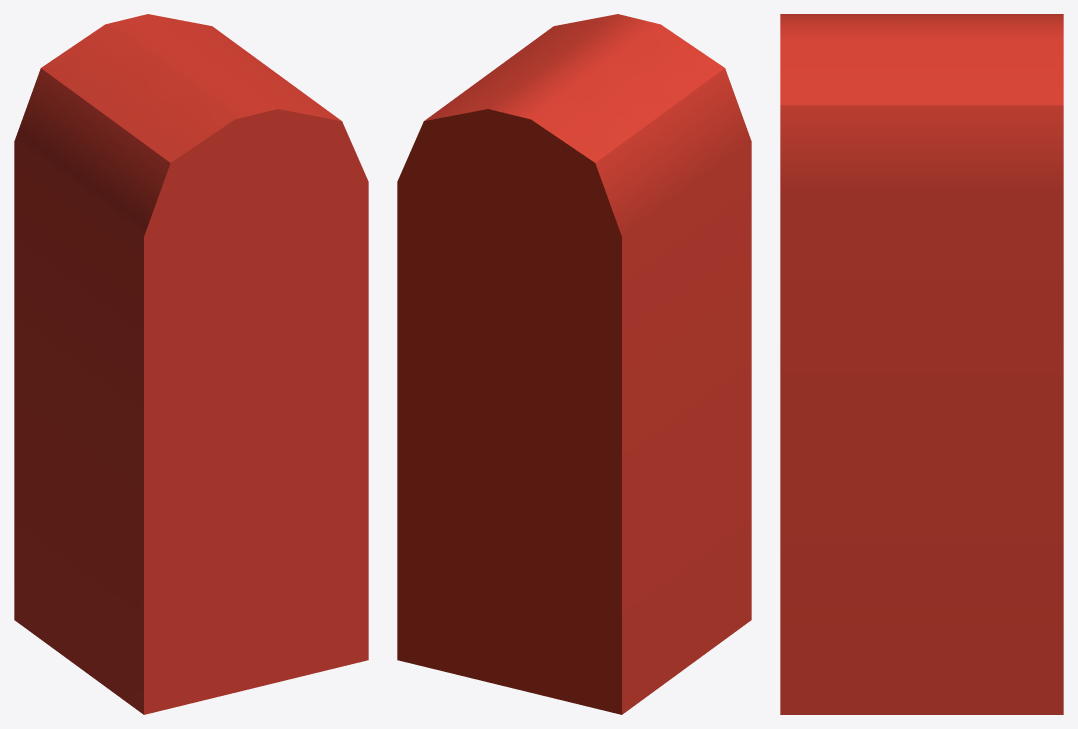
Rendered from BarrierPart1.fbx.
3 renders of one model, left to right at view 1: azimuth 30°, elevation 25°; view 2: azimuth 150°, elevation 25°; view 3: azimuth 270°, elevation 25°, orthographic. The views are drawn at different scales.
Visible parts, largest first — view 1: BarrierPart1; view 2: BarrierPart1; view 3: BarrierPart1.
Part boxes in pixels (x1=…): BarrierPart1: x1=14, y1=14, x2=368, y2=714; BarrierPart1: x1=397, y1=14, x2=751, y2=714; BarrierPart1: x1=780, y1=14, x2=1063, y2=714.
Size of the model in its own units: 6.41 by 15.61 by 6.41.
